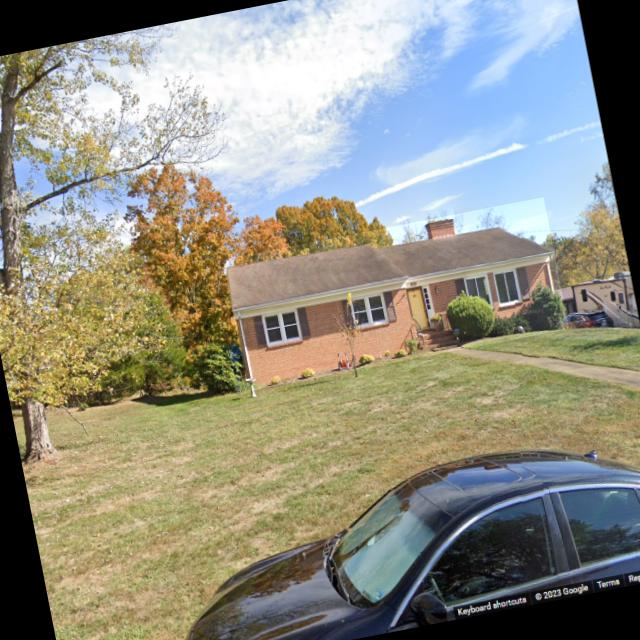House: (223, 198, 569, 390)
